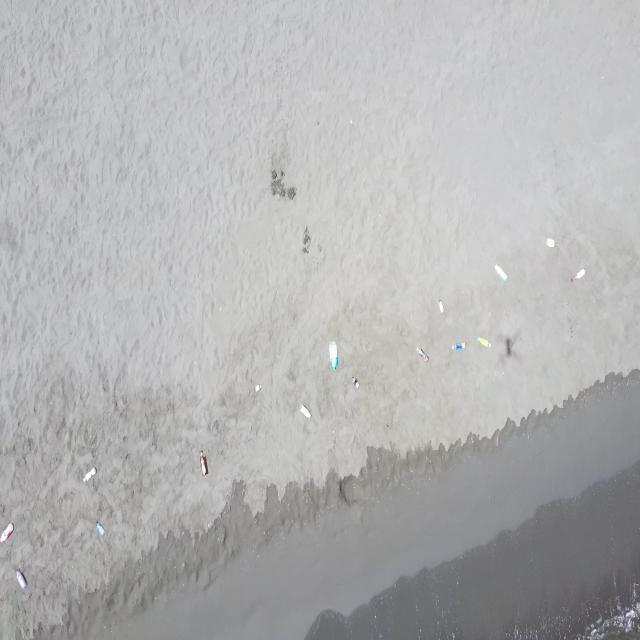Garbage: (328, 340, 336, 369), (0, 523, 12, 542), (493, 263, 506, 280), (16, 568, 26, 588), (200, 449, 207, 475), (84, 467, 96, 482), (571, 267, 584, 280), (415, 347, 427, 360), (504, 337, 512, 355), (477, 336, 489, 347), (300, 404, 310, 417), (96, 520, 103, 535), (452, 342, 464, 350), (352, 376, 359, 387), (437, 300, 443, 312), (253, 384, 260, 392), (546, 238, 552, 247)
